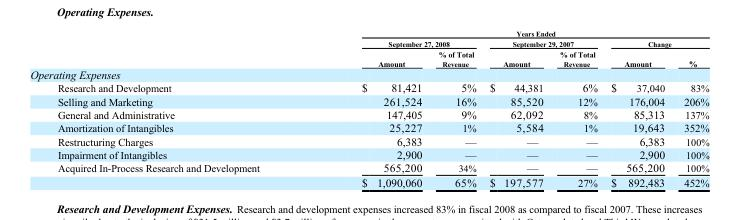table: (29, 29, 708, 188)
table column: (29, 29, 310, 188), (310, 29, 429, 188), (603, 29, 673, 188), (482, 29, 550, 188), (429, 29, 482, 188), (550, 29, 603, 188), (673, 29, 708, 188)
table column header: (29, 29, 708, 67)
table projected row header: (29, 67, 708, 80)
table row: (29, 48, 708, 67), (29, 80, 708, 94), (29, 120, 708, 134), (29, 160, 708, 174), (29, 174, 708, 188), (29, 67, 708, 80), (29, 94, 708, 107), (29, 107, 708, 120), (29, 134, 708, 147), (29, 147, 708, 160), (29, 38, 708, 48), (29, 29, 708, 38)
table spanning cell: (310, 29, 708, 38), (310, 38, 482, 48), (482, 38, 603, 48), (603, 38, 708, 48)
